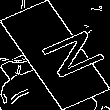N_SW: (15, 26, 95, 84)
